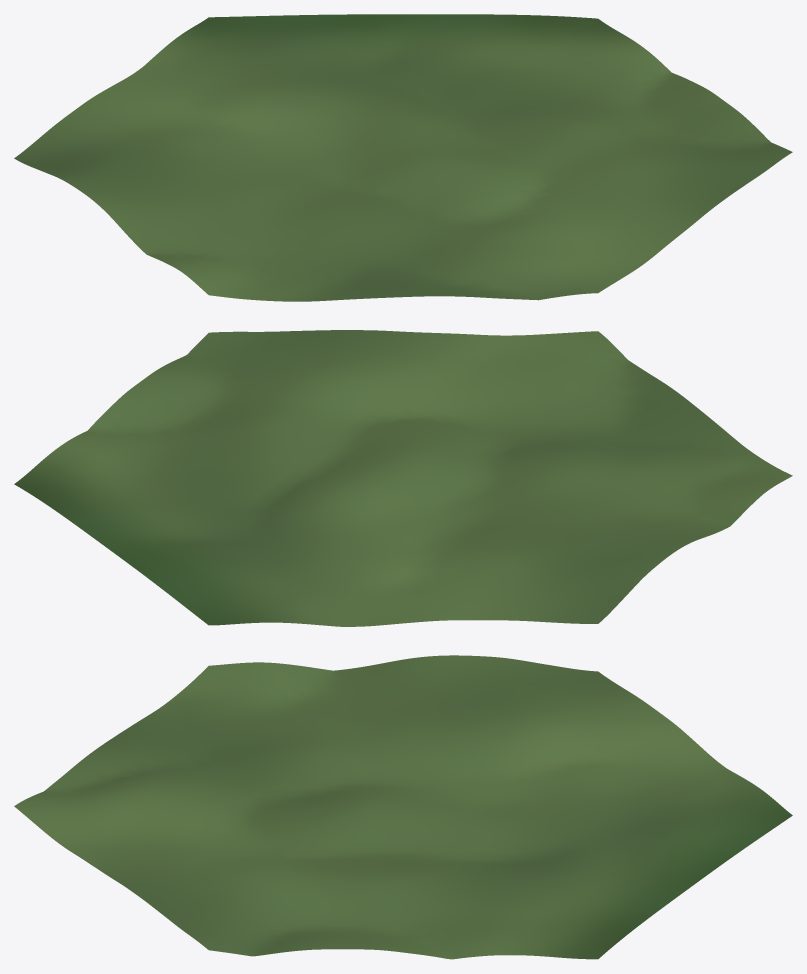
3 renders of one model, top to bottom at view 1: azimuth 30°, elevation 25°; view 2: azimuth 150°, elevation 25°; view 3: azimuth 270°, elevation 25°, orthographic.
Visible parts, largest first — view 1: JS_-3_11; view 2: JS_-3_11; view 3: JS_-3_11.
Boxes of the visible parts, x1,y1,x2,y2 form: JS_-3_11: (14,14,792,301); JS_-3_11: (14,330,792,626); JS_-3_11: (14,655,792,959).
Size of the model in its own units: 4330 by 145 by 5000.
